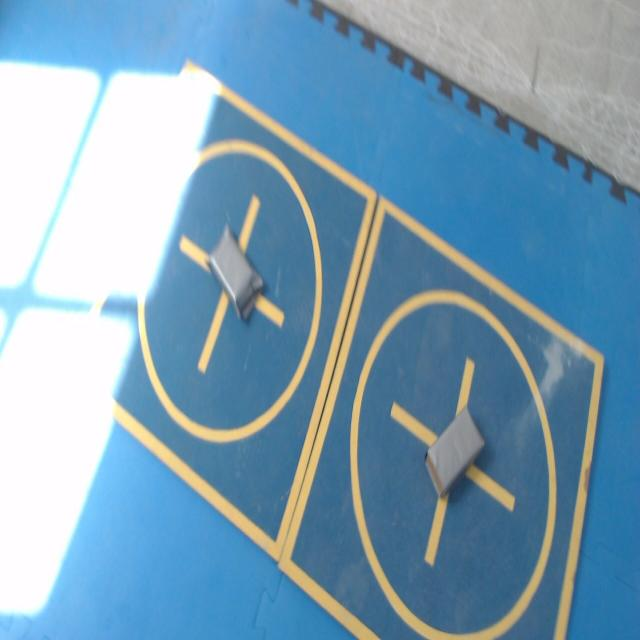lipo: (426, 405, 484, 497), (208, 225, 262, 318)
